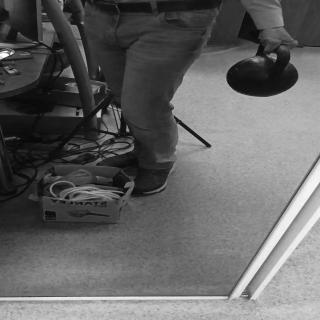kettlebell: (226, 39, 304, 98)
